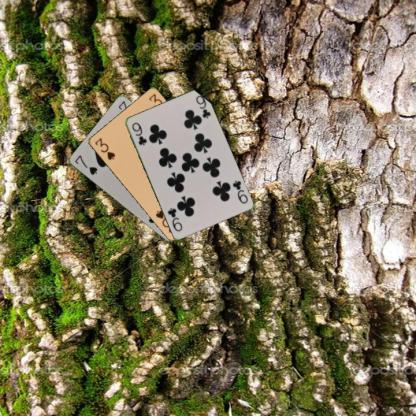3s: (92, 135, 116, 161)
7s: (72, 153, 98, 176)
9c: (229, 177, 249, 205), (129, 119, 148, 146)
